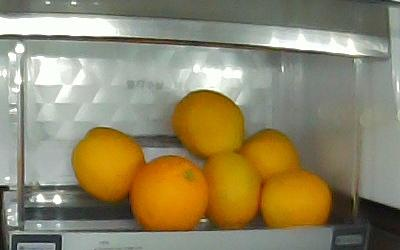orange: (129, 155, 208, 231), (71, 126, 145, 201), (172, 89, 244, 159), (203, 151, 260, 229), (260, 170, 330, 228), (237, 128, 300, 182)
